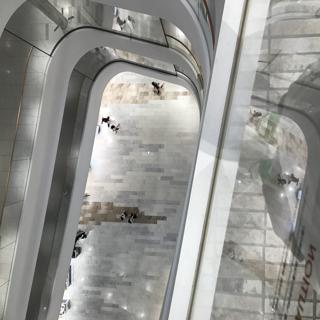person: (149, 73, 169, 102)
